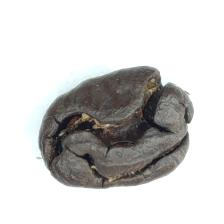NG: (55, 77, 173, 181)
